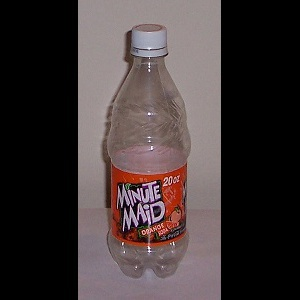emptybottle: (107, 24, 191, 278)
